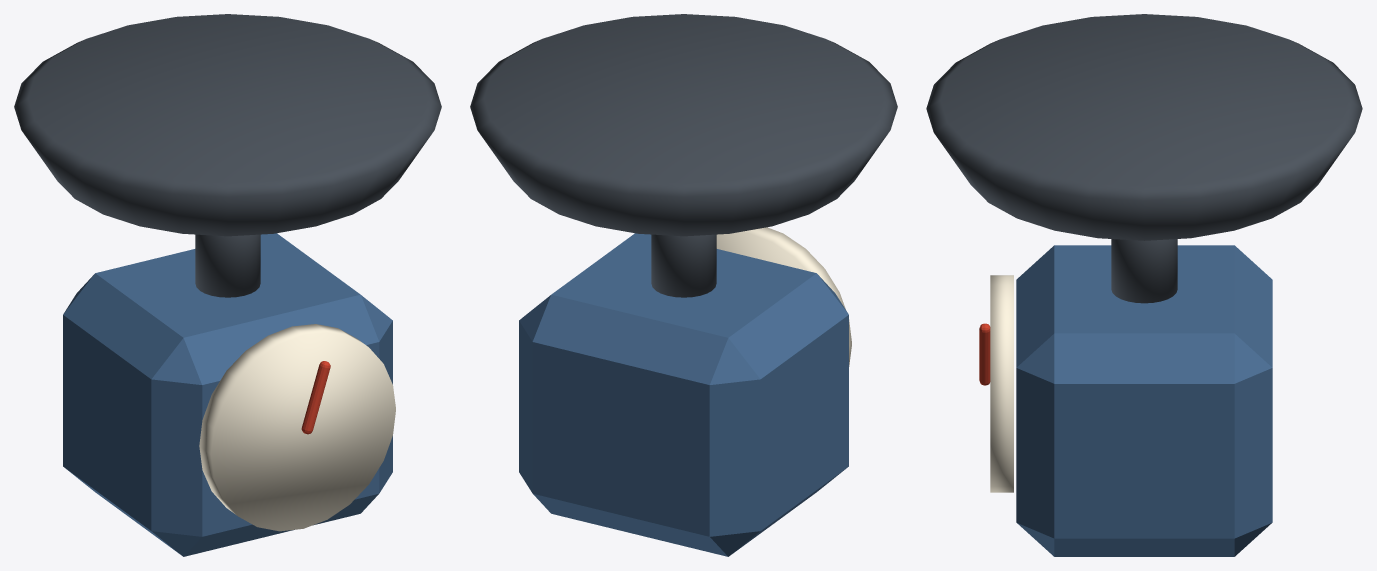
Rendered from countertop-scale.glb.
3 renders of one model, left to right at view 1: azimuth 30°, elevation 25°; view 2: azimuth 150°, elevation 25°; view 3: azimuth 270°, elevation 25°, orthographic. The views are drawn at different scales.
Parts seen in each view (by area): view 1: countertop_scale; view 2: countertop_scale; view 3: countertop_scale.
Part boxes in pixels (x1,y1,x2,y2): countertop_scale: (14,14,441,556); countertop_scale: (470,14,897,556); countertop_scale: (926,14,1362,556).
Size of the model in its own units: 0.46 by 0.48 by 0.46.
